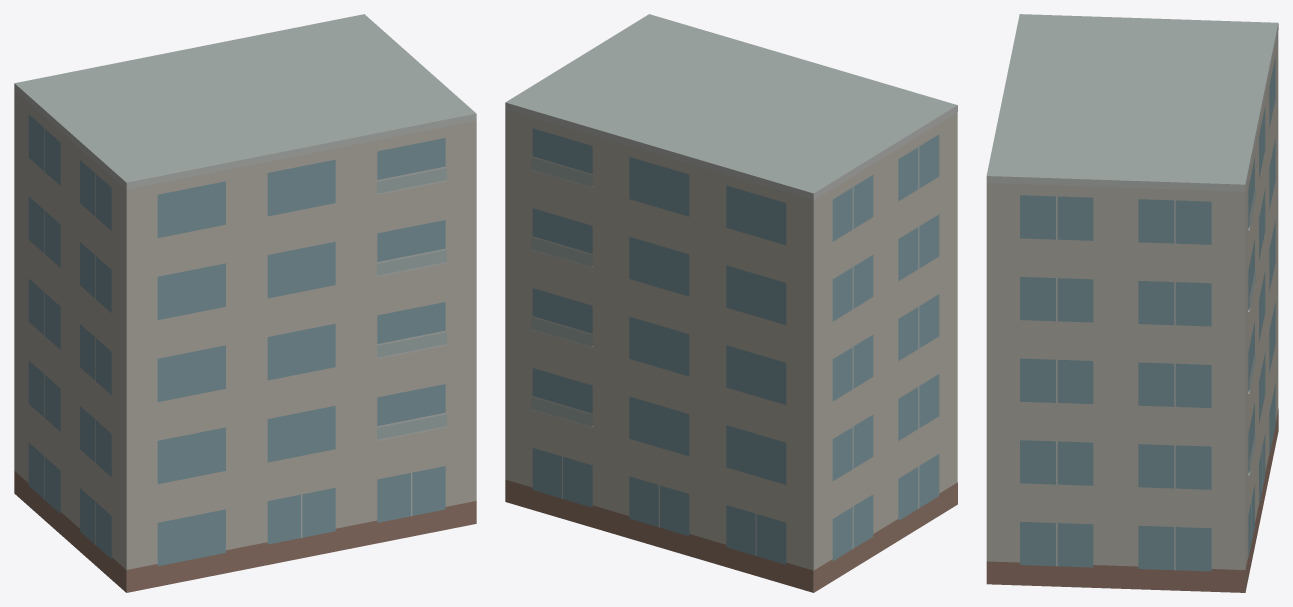
Rendered from survey-upis-32665773.glb.
3 renders of one model, left to right at view 1: azimuth 30°, elevation 25°; view 2: azimuth 150°, elevation 25°; view 3: azimuth 270°, elevation 25°, orthographic. The views are drawn at different scales.
Parts seen in each view (by area): view 1: survey-upis-32665773.tmp; view 2: survey-upis-32665773.tmp; view 3: survey-upis-32665773.tmp.
Boxes of the visible parts, x1,y1,x2,y2 form: survey-upis-32665773.tmp: (14,14,476,592); survey-upis-32665773.tmp: (505,14,957,592); survey-upis-32665773.tmp: (986,14,1278,592).
Size of the model in its own units: 12.65 by 14.1 by 9.15.
